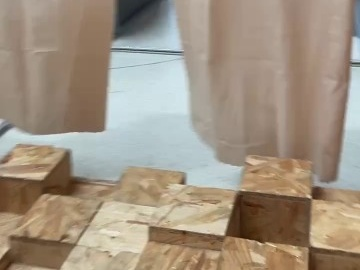curtain: (0, 0, 346, 186)
